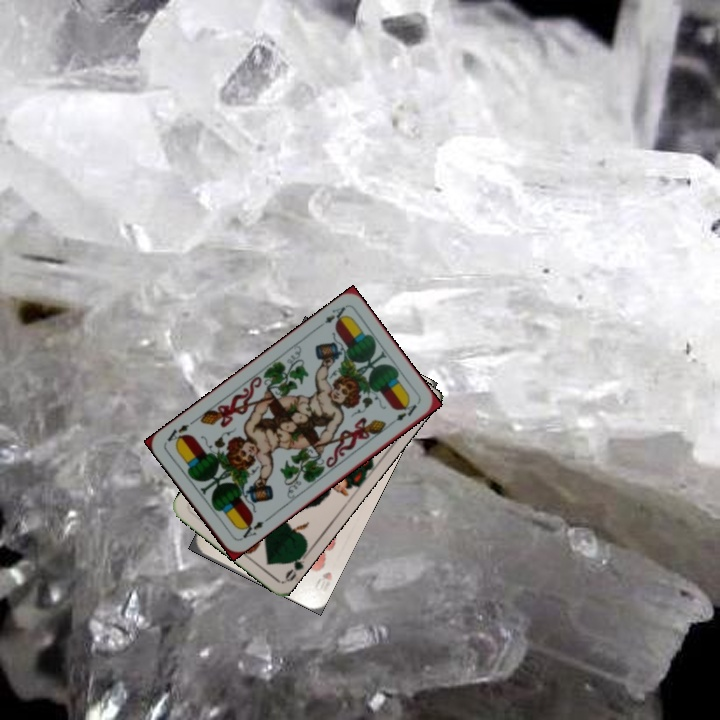EA: (313, 302, 349, 331), (236, 515, 266, 543)
GO: (281, 546, 312, 584)
H10: (311, 567, 335, 595)
